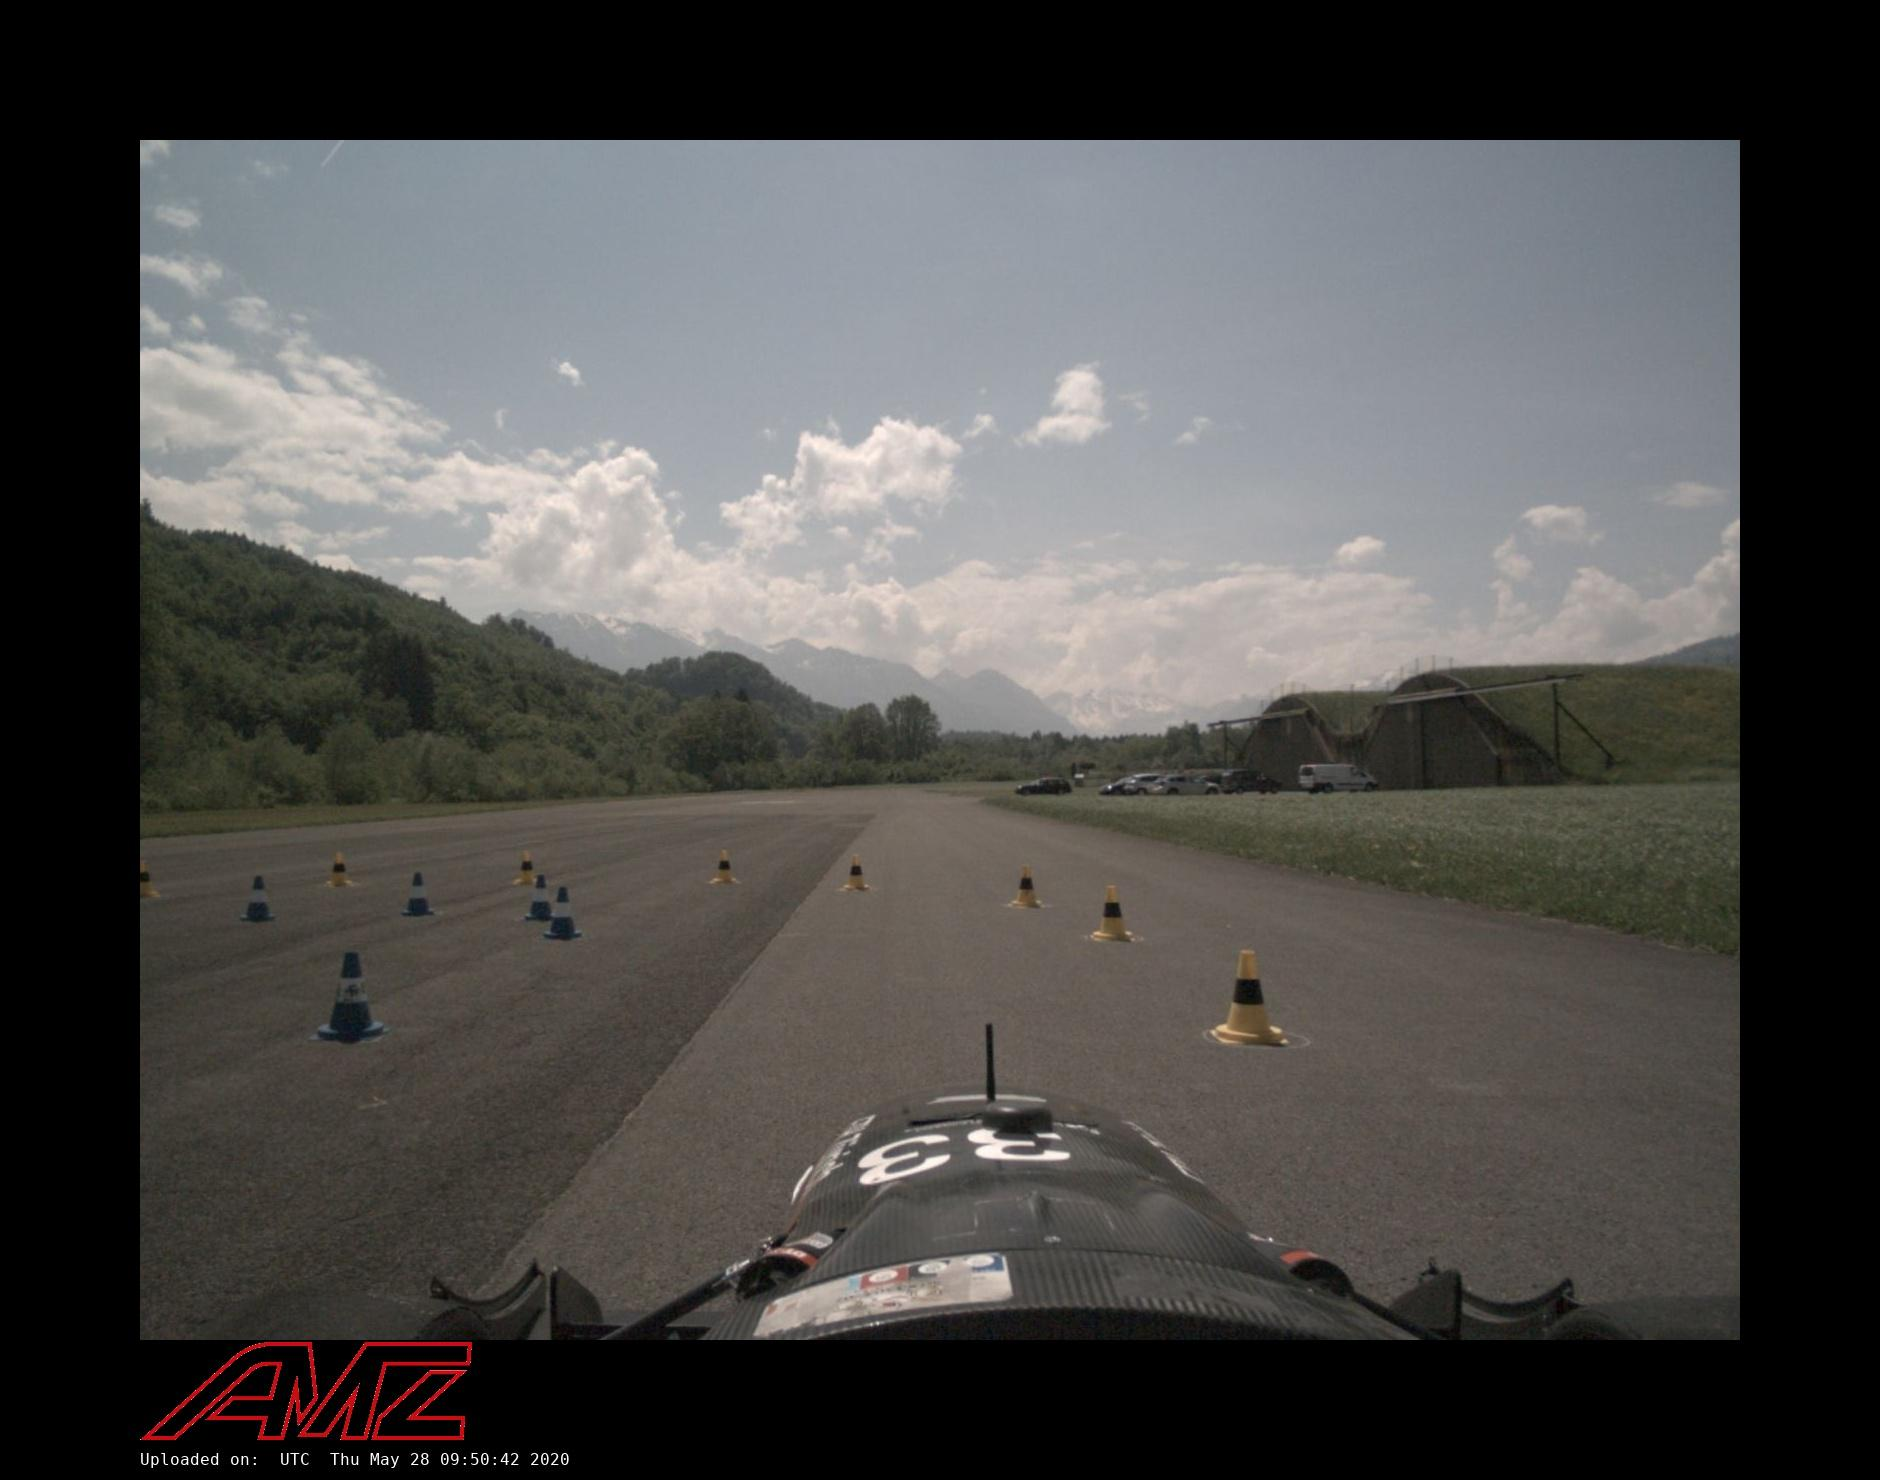blue_cone: (308, 951, 391, 1041), (543, 885, 581, 941), (240, 874, 278, 923), (523, 874, 555, 922), (400, 873, 433, 917)
yellow_cone: (1210, 951, 1291, 1047), (1093, 885, 1135, 943), (1012, 867, 1042, 909), (710, 850, 739, 883), (842, 854, 868, 890), (513, 850, 539, 883), (327, 853, 352, 886), (140, 859, 159, 899)
